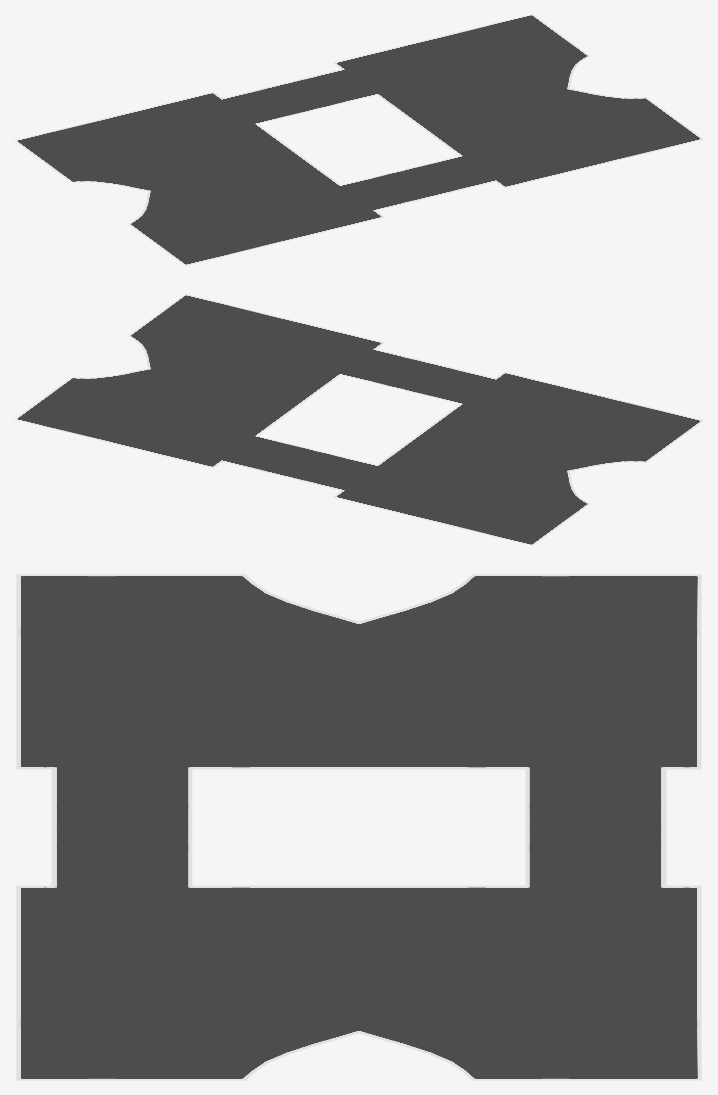
File: ramkaRuin.fbx
The picture shows the model from 3 angles, top to bottom: view 1: azimuth 30°, elevation 25°; view 2: azimuth 150°, elevation 25°; view 3: azimuth 270°, elevation 25°; orthographic projection. The views are drawn at different scales.
Visible parts, largest first — view 1: FullQuarterRuin; view 2: FullQuarterRuin; view 3: FullQuarterRuin.
Boxes of the visible parts, x1,y1,x2,y2 form: FullQuarterRuin: [14, 14, 703, 265]; FullQuarterRuin: [14, 294, 703, 545]; FullQuarterRuin: [16, 574, 701, 1080].
Bounding box in the file's own units: 2408 × 0 × 1378.
